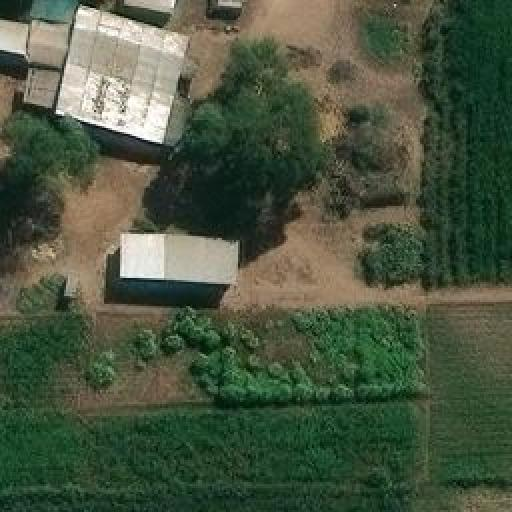manzanas: (0, 0, 249, 164), (113, 231, 237, 299)
